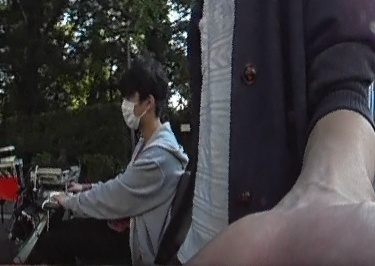person: (26, 65, 181, 266)
